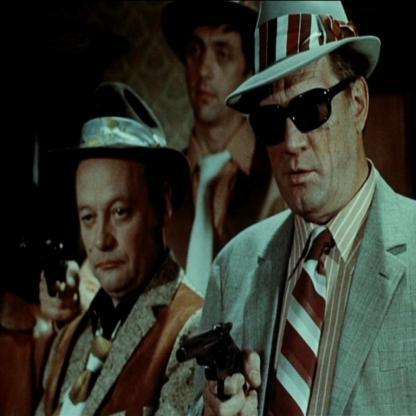gun: (166, 318, 254, 386)
